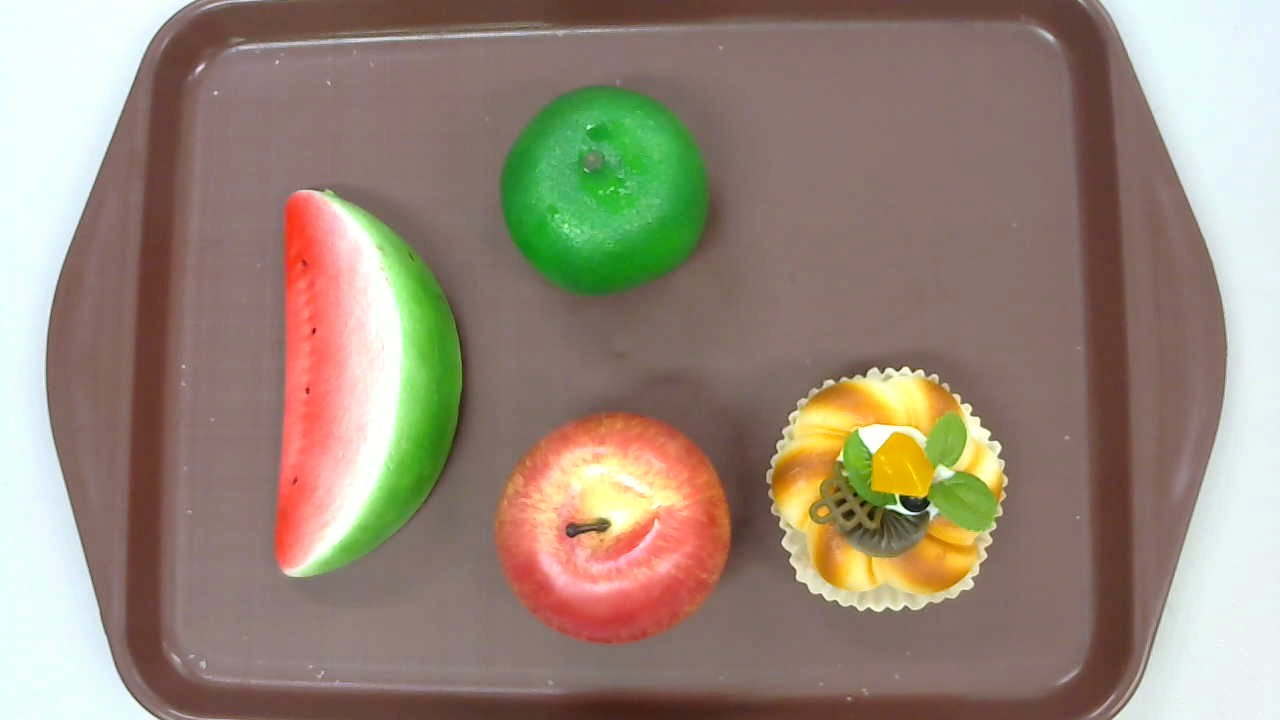fruit tart: (766, 366, 1010, 613)
green orange: (499, 86, 710, 297)
red apple: (496, 410, 730, 645)
water melon: (272, 187, 462, 577)
